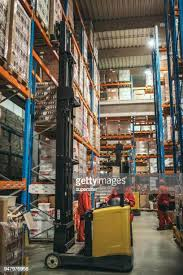Pallet Jack: (45, 17, 137, 275)
